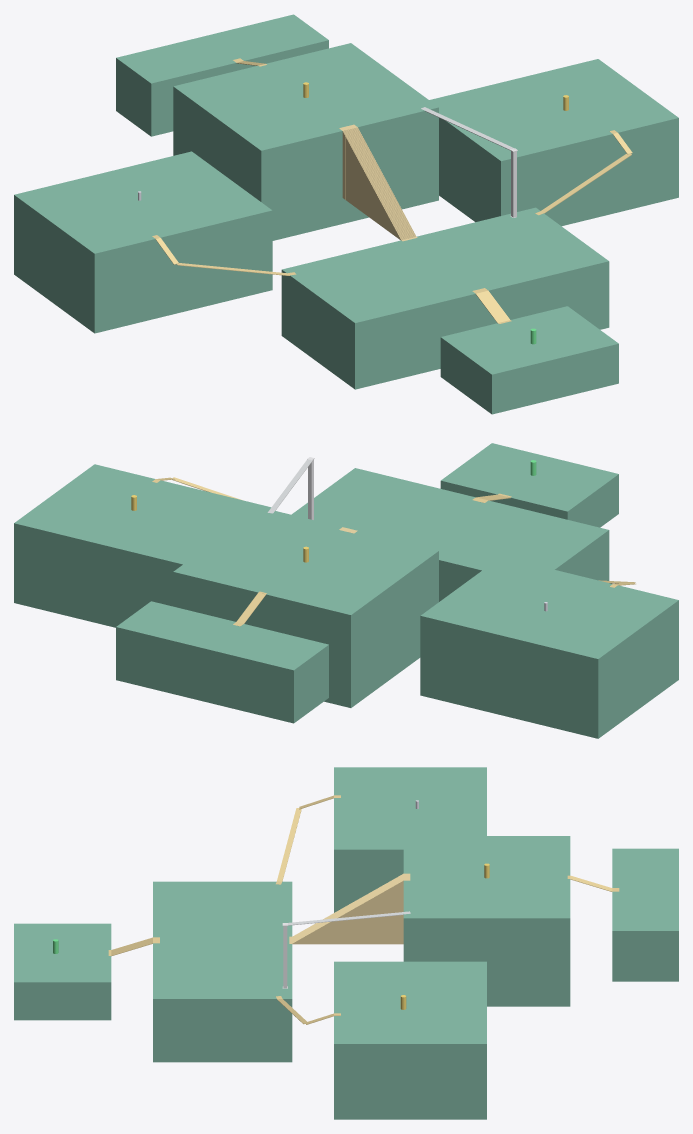
File: greybox.glb
3 views of the same model, one above another, from view 1: azimuth 30°, elevation 25°; view 2: azimuth 150°, elevation 25°; view 3: azimuth 270°, elevation 25° (orthographic). The views are drawn at different scales.
Visible parts, largest first — view 1: ZONE_outer, ZONE_scripture, ZONE_mainhall, ZONE_cauldron, ZONE_welcome, ZONE_swordpool, LINK_heavenly-stair, LINK_cauldron-path, LINK_scripture-path; view 2: ZONE_scripture, ZONE_mainhall, ZONE_cauldron, ZONE_outer, ZONE_swordpool, ZONE_welcome; view 3: ZONE_outer, ZONE_mainhall, ZONE_cauldron, ZONE_scripture, ZONE_welcome, ZONE_swordpool, LINK_heavenly-stair, LINK_scripture-path.
Part boxes in pixels (box(x1,y1,x2,y2)): ZONE_outer: box(281, 207, 609, 389); ZONE_scripture: box(14, 151, 272, 333); ZONE_mainhall: box(173, 43, 438, 240); ZONE_cauldron: box(429, 59, 678, 226); ZONE_welcome: box(440, 306, 618, 414); ZONE_swordpool: box(116, 14, 328, 136); LINK_heavenly-stair: box(339, 124, 417, 241); LINK_cauldron-path: box(535, 130, 632, 215); LINK_scripture-path: box(152, 235, 296, 275); ZONE_scripture: box(420, 556, 678, 738); ZONE_mainhall: box(173, 507, 438, 707); ZONE_cauldron: box(14, 464, 271, 627); ZONE_outer: box(291, 468, 609, 601); ZONE_swordpool: box(116, 601, 328, 723); ZONE_welcome: box(440, 443, 618, 527); ZONE_outer: box(153, 881, 292, 1062); ZONE_mainhall: box(403, 836, 570, 1006); ZONE_cauldron: box(334, 961, 486, 1119); ZONE_scripture: box(334, 767, 486, 912); ZONE_welcome: box(14, 923, 111, 1020); ZONE_swordpool: box(612, 848, 678, 981); LINK_heavenly-stair: box(289, 873, 410, 944); LINK_scripture-path: box(276, 795, 340, 884).
Bounding box in the file's own units: 460 × 110 × 478.
